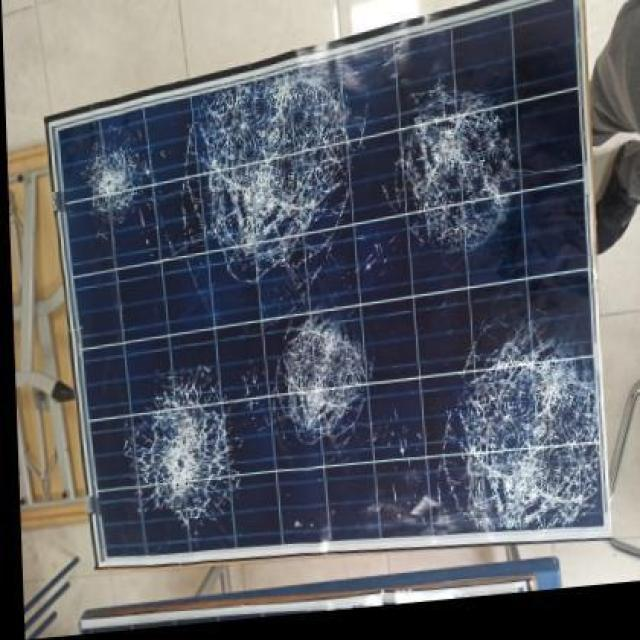cracked: (44, 9, 614, 546)
